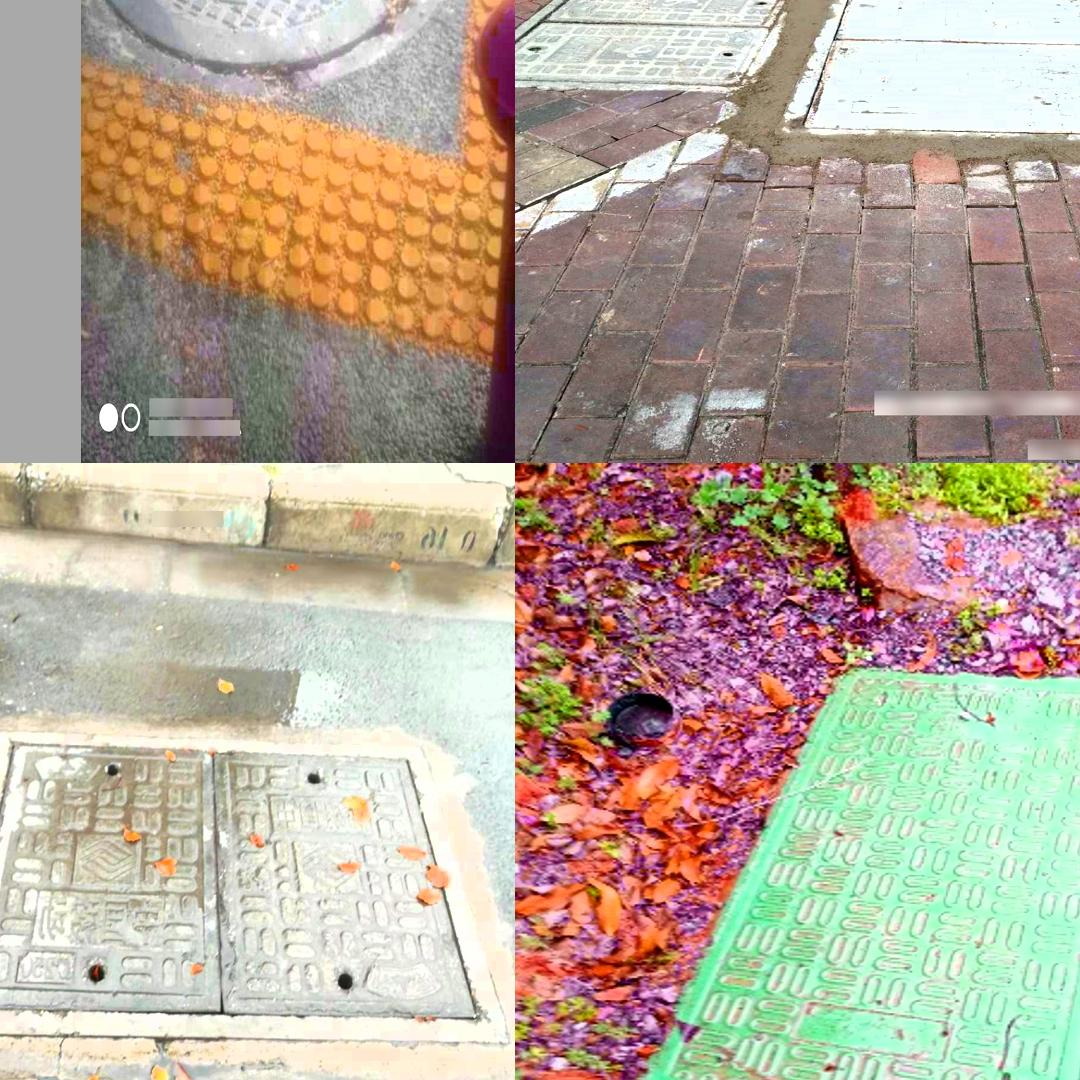good: (634, 666, 1080, 1080), (0, 729, 509, 1041), (776, 0, 1080, 142), (515, 0, 802, 93), (85, 0, 427, 66)
